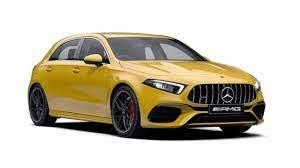car: (19, 30, 275, 144)
